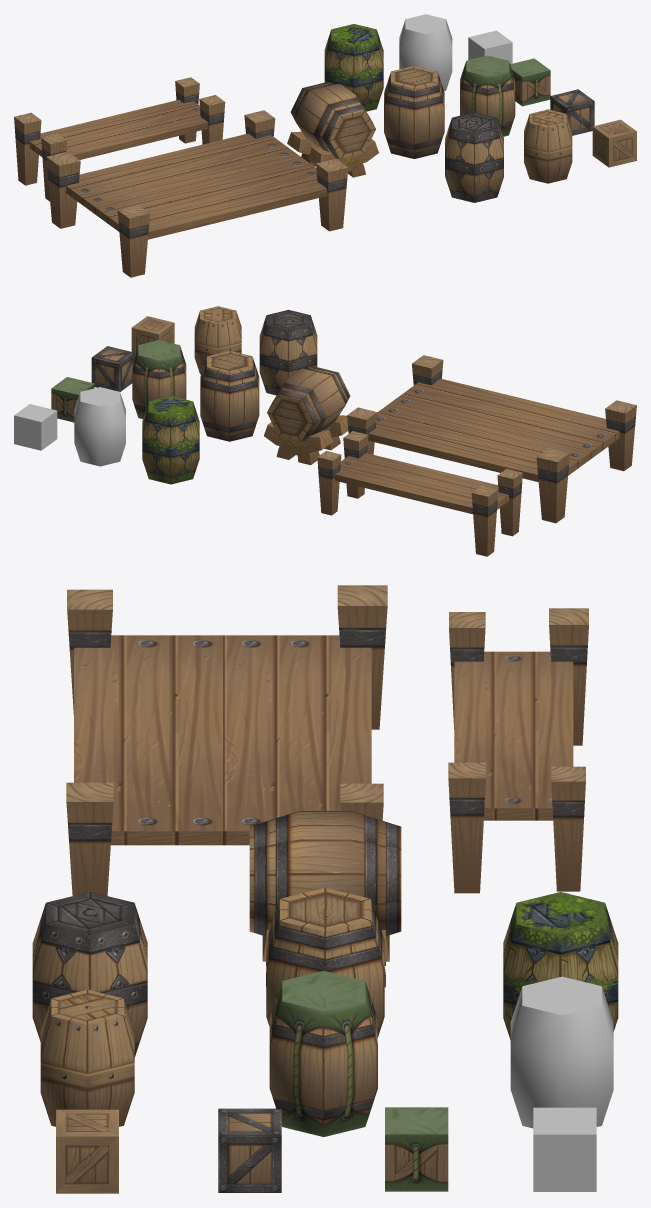
The model's file is Wine_Box.FBX.
3 views of the same model, one above another, from view 1: azimuth 30°, elevation 25°; view 2: azimuth 150°, elevation 25°; view 3: azimuth 270°, elevation 25° (orthographic). The views are drawn at different scales.
Visible parts, largest first — view 1: Box04, Box05, Object01, Object05, Object09, Object08, Object06, Object04, Object07, Box12, Box13, Box01 (+2 smaller); view 2: Box04, Box05, Object01, Object08, Object09, Object05, Object07, Object06, Object04, Box01, Box14, Box02 (+2 smaller); view 3: Box04, Box05, Object06, Object09, Object07, Object05, Object04, Object01, Object08, Box02, Box13, Box14 (+1 smaller).
Part boxes in pixels (box(x1,y1,x2,y2)): Box04: box(46, 110, 348, 277); Box05: box(14, 77, 225, 201); Object01: box(384, 66, 444, 158); Object05: box(445, 112, 503, 202); Object09: box(290, 82, 375, 158); Object08: box(324, 24, 383, 111); Object06: box(460, 55, 515, 136); Object04: box(524, 109, 572, 183); Object07: box(399, 14, 452, 90); Box12: box(592, 119, 636, 167); Box13: box(510, 58, 550, 106); Box01: box(287, 131, 378, 177); Box04: box(347, 355, 636, 523); Box05: box(317, 431, 522, 556); Object01: box(200, 350, 259, 441); Object08: box(142, 396, 199, 484); Object09: box(267, 367, 350, 441); Object05: box(259, 310, 317, 395); Object07: box(74, 387, 125, 466); Object06: box(132, 340, 186, 418); Object04: box(194, 306, 241, 374); Box01: box(264, 415, 348, 465); Box14: box(14, 404, 57, 450); Box02: box(91, 346, 134, 391); Box04: box(66, 585, 387, 895); Box05: box(448, 608, 588, 893); Object06: box(269, 971, 377, 1136); Object09: box(249, 811, 401, 936); Object07: box(510, 976, 613, 1128); Object05: box(32, 892, 147, 1057); Object04: box(40, 989, 134, 1126); Object01: box(266, 887, 384, 1037); Object08: box(503, 892, 618, 1039); Box02: box(218, 1108, 281, 1192); Box13: box(385, 1107, 448, 1191); Box14: box(533, 1107, 596, 1191).
Bounding box in the file's own units: 1436 × 203 × 738.
